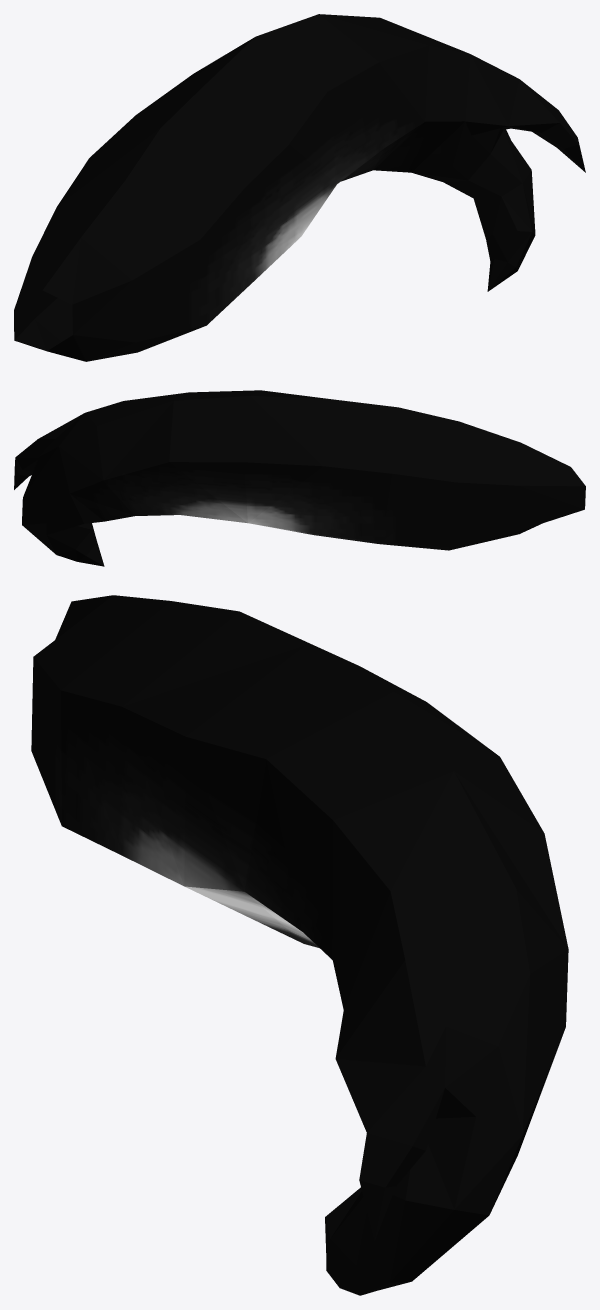
The model's file is 0462_weibaa.glb.
3 renders of one model, top to bottom at view 1: azimuth 30°, elevation 25°; view 2: azimuth 150°, elevation 25°; view 3: azimuth 270°, elevation 25°, orthographic. The views are drawn at different scales.
Size of the model in its own units: 2.2 by 0.9247 by 1.02.
Materials: 1 (1 with a texture image).
